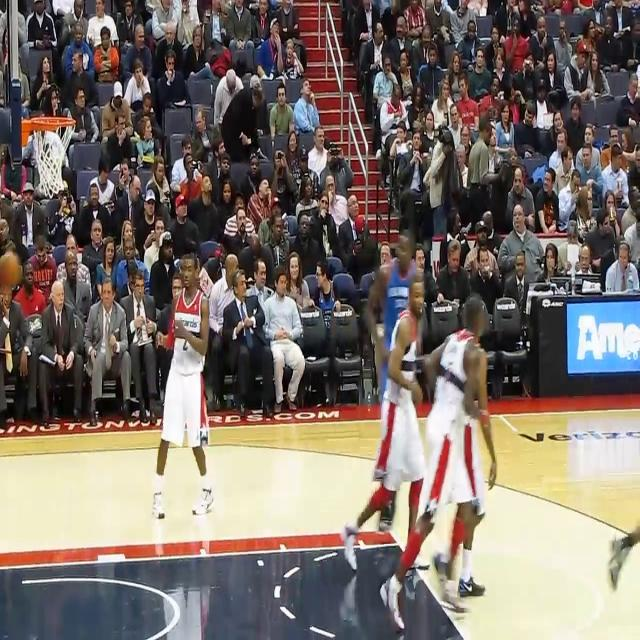ball: (0, 250, 24, 293)
